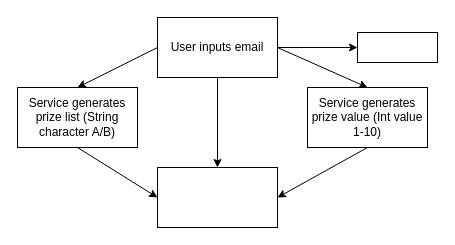
The diagram is 455 pixels wide and 245 high, and some of its shapes have lost their labels. Here are the shapes that lost their labels. From the top down, the centre of each, then its label:
(x=397, y=47): MySQL Database
(x=217, y=197): Service returns email and prize information to user and saves to DB
